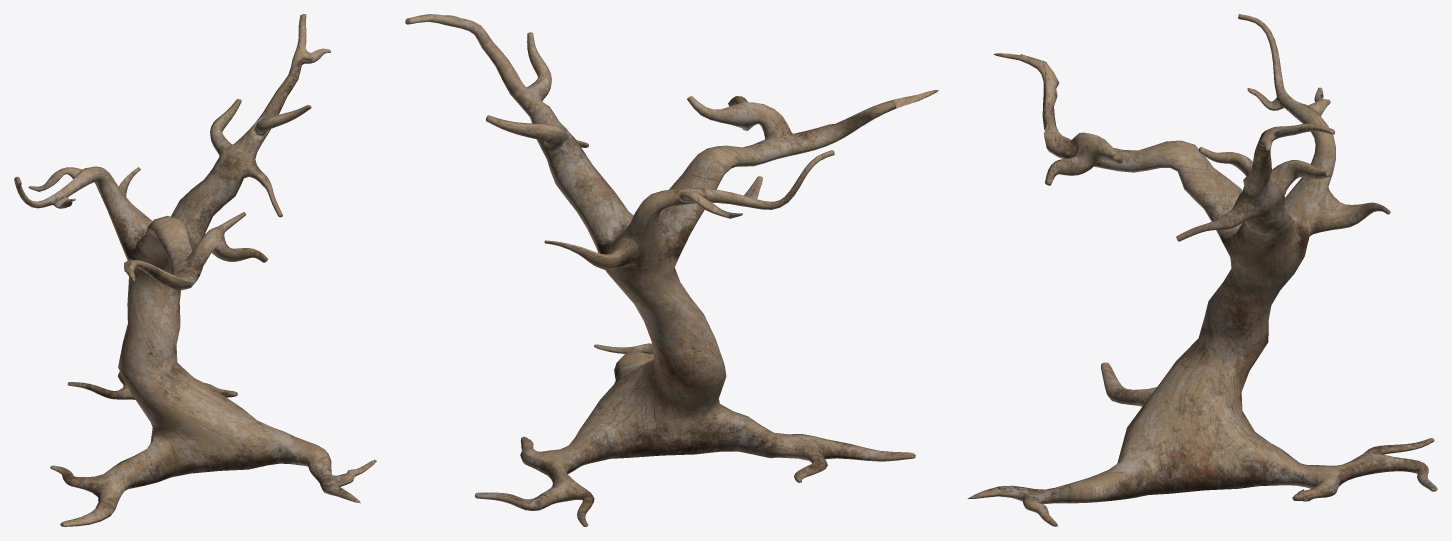
Rendered from dead_tree.glb.
The picture shows the model from 3 angles, left to right: view 1: azimuth 30°, elevation 25°; view 2: azimuth 150°, elevation 25°; view 3: azimuth 270°, elevation 25°; orthographic projection. The views are drawn at different scales.
Visible parts, largest first — view 1: polySurface66Shape; view 2: polySurface66Shape; view 3: polySurface66Shape.
Part boxes in pixels (x1=…): polySurface66Shape: x1=14, y1=14, x2=376, y2=526; polySurface66Shape: x1=405, y1=14, x2=938, y2=526; polySurface66Shape: x1=967, y1=14, x2=1437, y2=526.
Bounding box in the file's own units: 19.31 × 20 × 19.35.
1 material, 1 textured.
